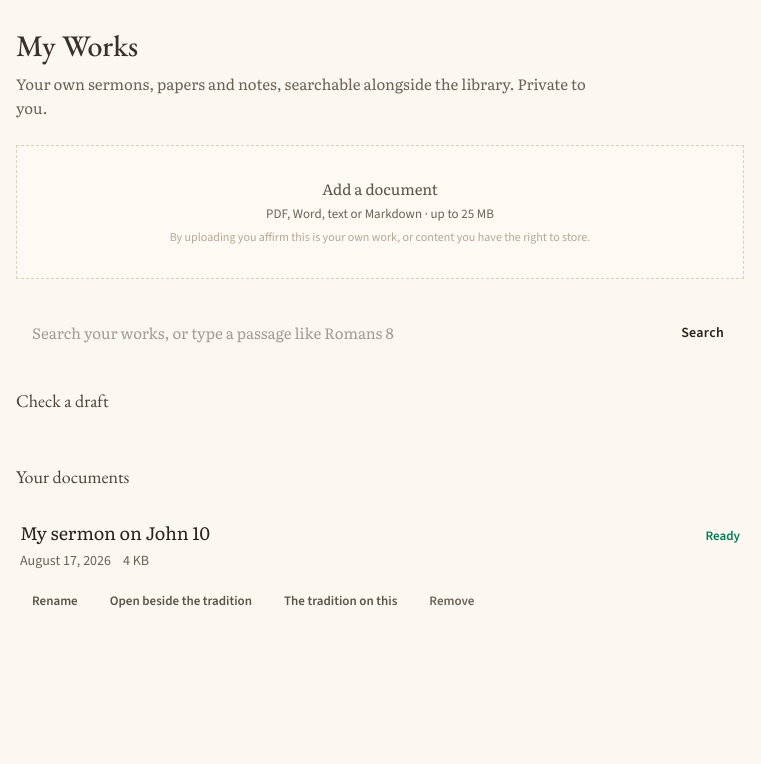
Test: My Works — the draft check › a draft with no Scripture gets the honest empty state
Expected: the text "My sermon on John 10" is shown, [20,519,210,546]
Click the heading "Check a draft" at coordinates (62, 400), box [16,389,109,412]
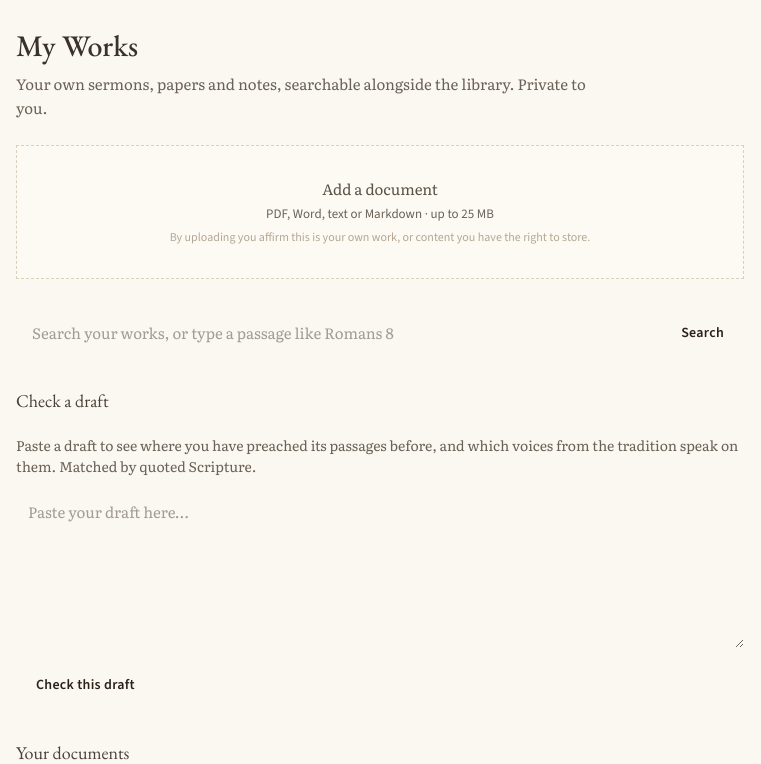
Type "All things work together for good…" into the text box named "Draft to check" at coordinates (380, 568), box [16,489,744,648]
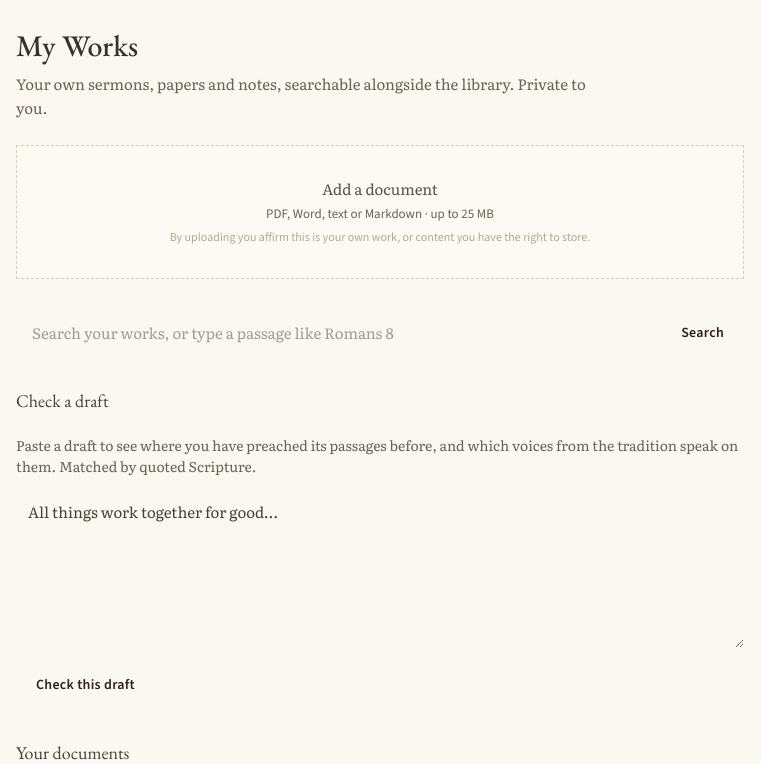
Click the button "Check this draft" at coordinates (85, 685), box [16,663,155,707]
(page scrolled)
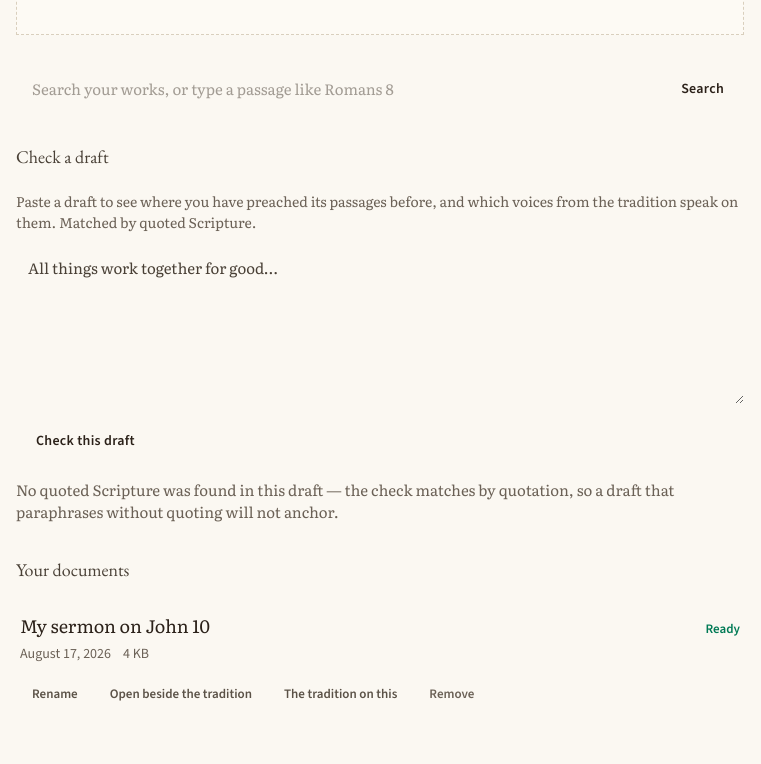
Expected: the text "No quoted Scripture was found" is shown, [16,478,674,523]
